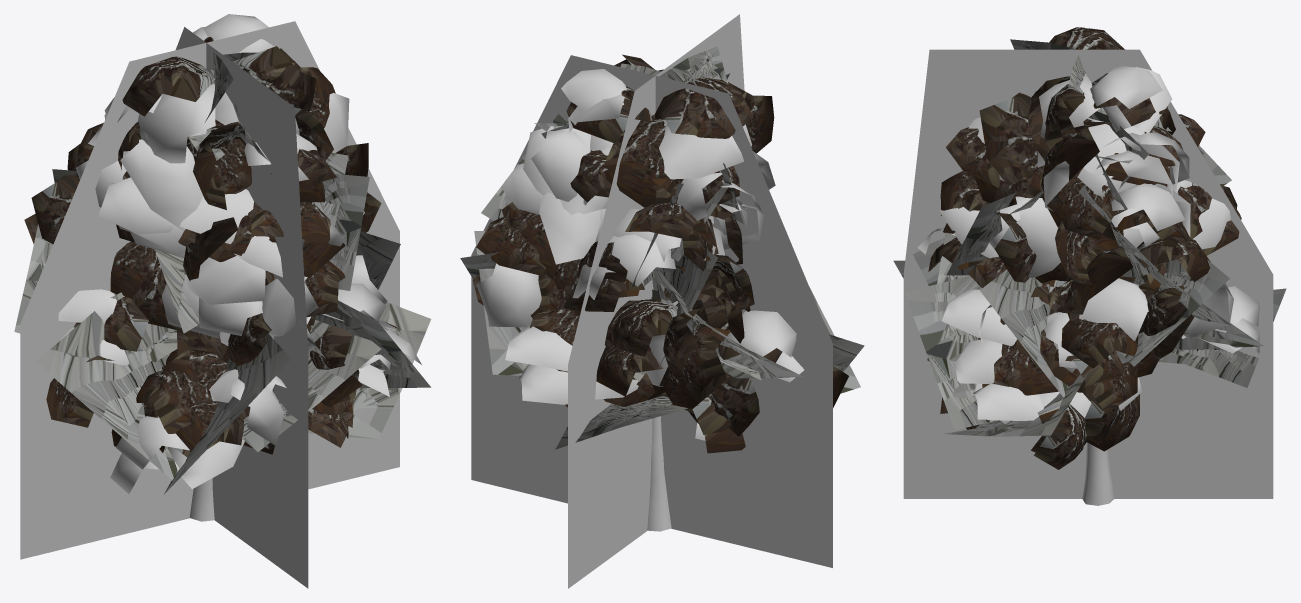
The model's file is Birch2.fbx.
3 renders of one model, left to right at view 1: azimuth 30°, elevation 25°; view 2: azimuth 150°, elevation 25°; view 3: azimuth 270°, elevation 25°, orthographic. The views are drawn at different scales.
Visible parts, largest first — view 1: LOD0, Billboard; view 2: LOD0, Billboard; view 3: LOD0, Billboard.
Part boxes in pixels (bbox=[...]): LOD0: bbox=[14, 14, 431, 521]; Billboard: bbox=[20, 21, 399, 588]; LOD0: bbox=[460, 46, 864, 531]; Billboard: bbox=[471, 14, 832, 588]; LOD0: bbox=[893, 27, 1286, 505]; Billboard: bbox=[903, 49, 1273, 498].
Size of what is drawn, in the model's own units: 828 by 949 by 748.
